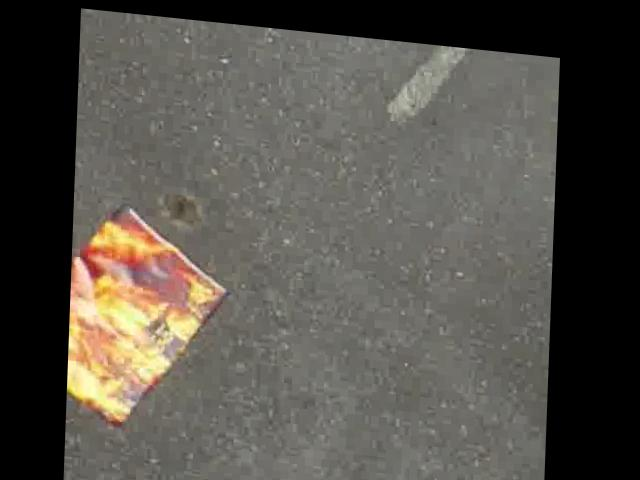fire-poster: (68, 200, 231, 432)
